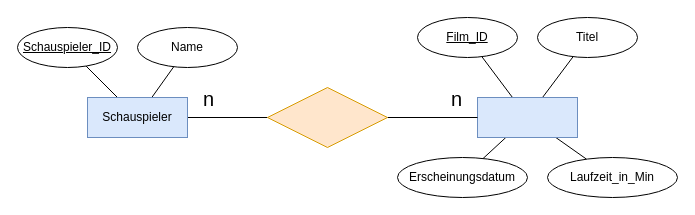
Some shapes in this 695 by 215 pixel diagram are drawn without their labels. Each missing label, with the centre of its shape:
"Film" goes at [527,117].
"spielt in" goes at [327,117].
